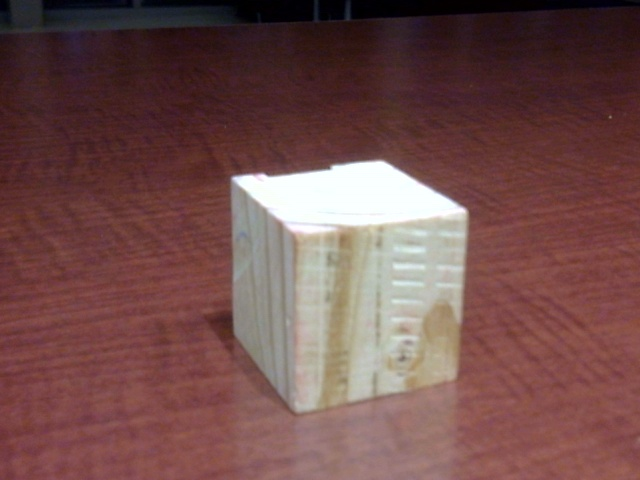NormalBlock: (268, 218, 464, 414)
